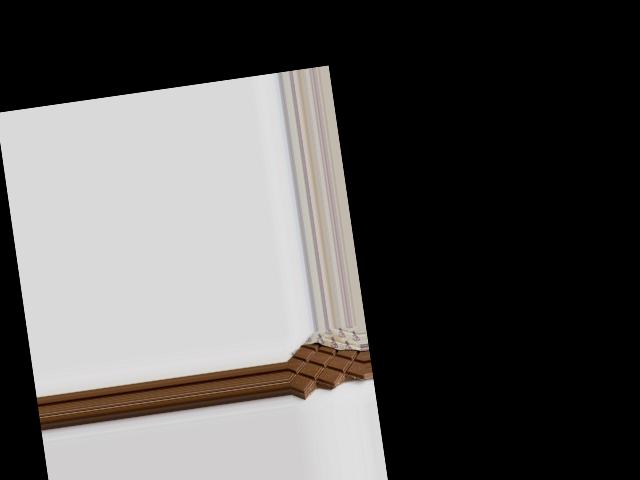chocolate: (284, 325, 367, 395)
